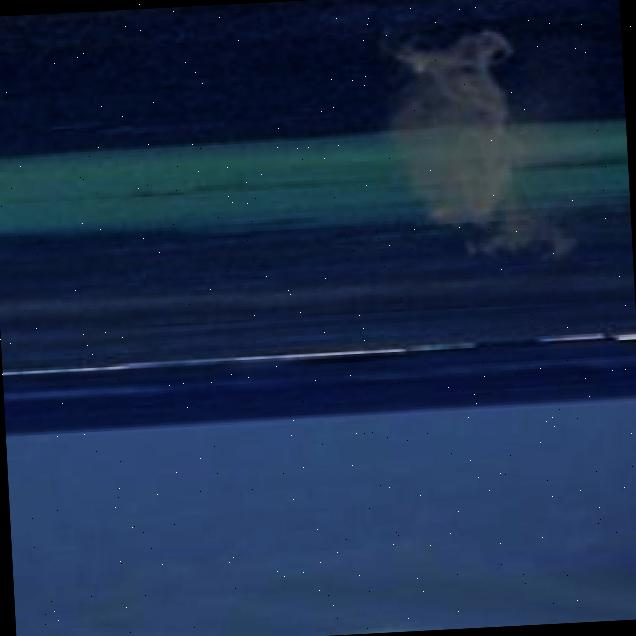smoke: (364, 19, 607, 279)
